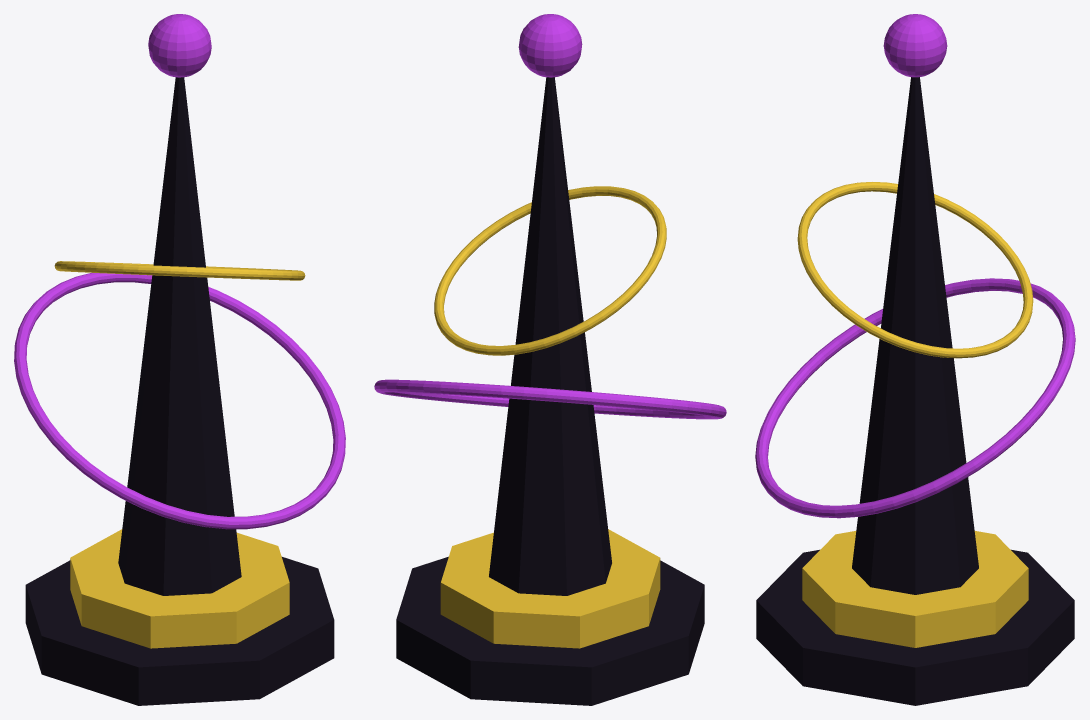
Rendered from crown_spire.obj.
3 renders of one model, left to right at view 1: azimuth 30°, elevation 25°; view 2: azimuth 150°, elevation 25°; view 3: azimuth 270°, elevation 25°, orthographic.
Parts seen in each view (by area): view 1: Cone, Cylinder, Cylinder.001, Torus, Sphere, Torus.001; view 2: Cone, Cylinder, Cylinder.001, Torus, Torus.001, Sphere; view 3: Cone, Cylinder, Cylinder.001, Torus, Torus.001, Sphere.
Boxes of the visible parts, <box> form: Cone: <box>118,77,241,595</box>; Cylinder: <box>25,557,334,705</box>; Cylinder.001: <box>70,529,289,648</box>; Torus: <box>14,272,345,529</box>; Sphere: <box>148,14,211,77</box>; Torus.001: <box>54,261,305,280</box>; Cone: <box>489,77,611,595</box>; Cylinder: <box>396,556,704,705</box>; Cylinder.001: <box>440,529,660,648</box>; Torus: <box>374,379,726,419</box>; Torus.001: <box>434,186,666,355</box>; Sphere: <box>518,14,582,77</box>; Cone: <box>852,77,978,594</box>; Cylinder: <box>756,549,1074,705</box>; Cylinder.001: <box>802,531,1028,647</box>; Torus: <box>755,278,1075,518</box>; Torus.001: <box>797,182,1033,358</box>; Sphere: <box>883,14,947,77</box>.
Size of the model in its own units: 9.82 by 19.4 by 9.06.
